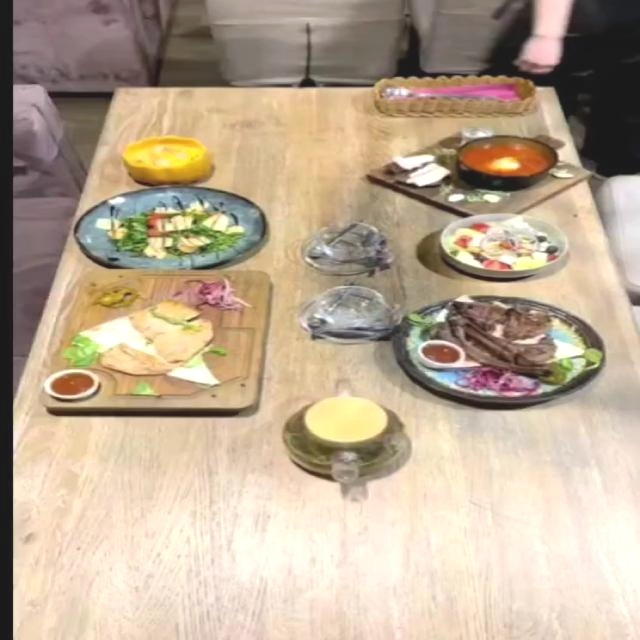meat: (34, 269, 278, 418), (390, 294, 606, 404)
salad: (74, 186, 266, 269), (440, 212, 572, 277)
soup: (386, 131, 570, 207), (122, 136, 210, 186)
tea: (282, 398, 409, 482)
